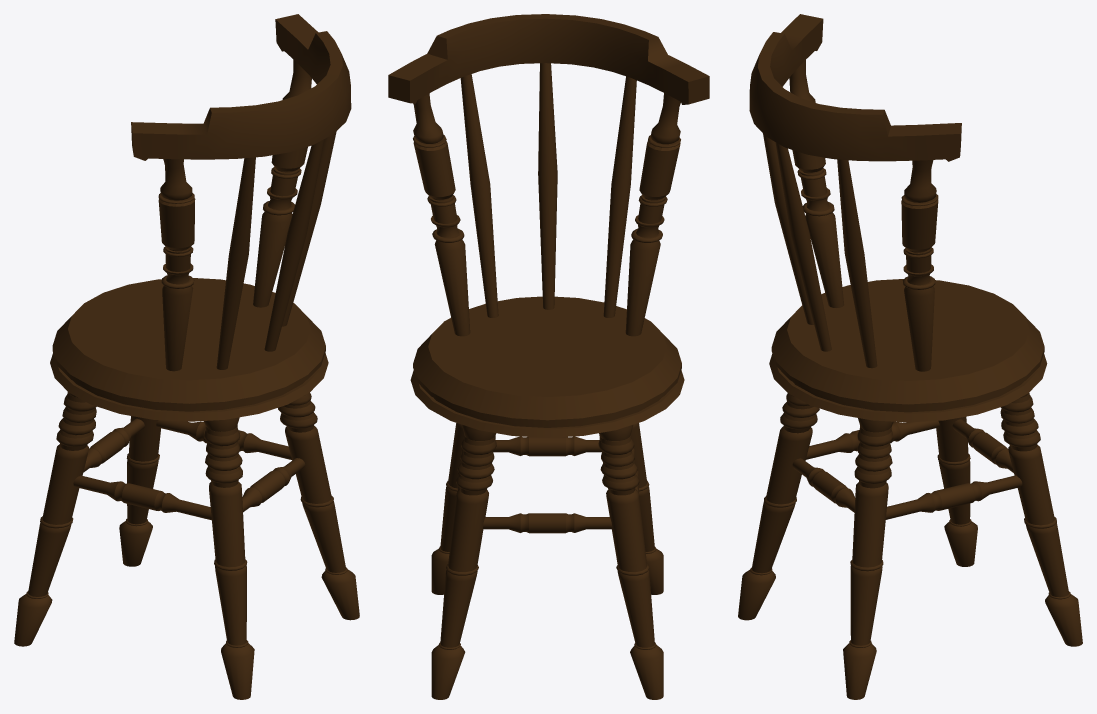
File: silla.fbx
3 renders of one model, left to right at view 1: azimuth 30°, elevation 25°; view 2: azimuth 150°, elevation 25°; view 3: azimuth 270°, elevation 25°, orthographic.
Visible parts, largest first — view 1: Silla; view 2: Silla; view 3: Silla.
Part boxes in pixels (x1,y1,x2,y2): Silla: [14, 14, 359, 699]; Silla: [388, 14, 709, 699]; Silla: [738, 14, 1082, 699].
Size of the model in its own units: 63.21 by 121 by 65.59.
